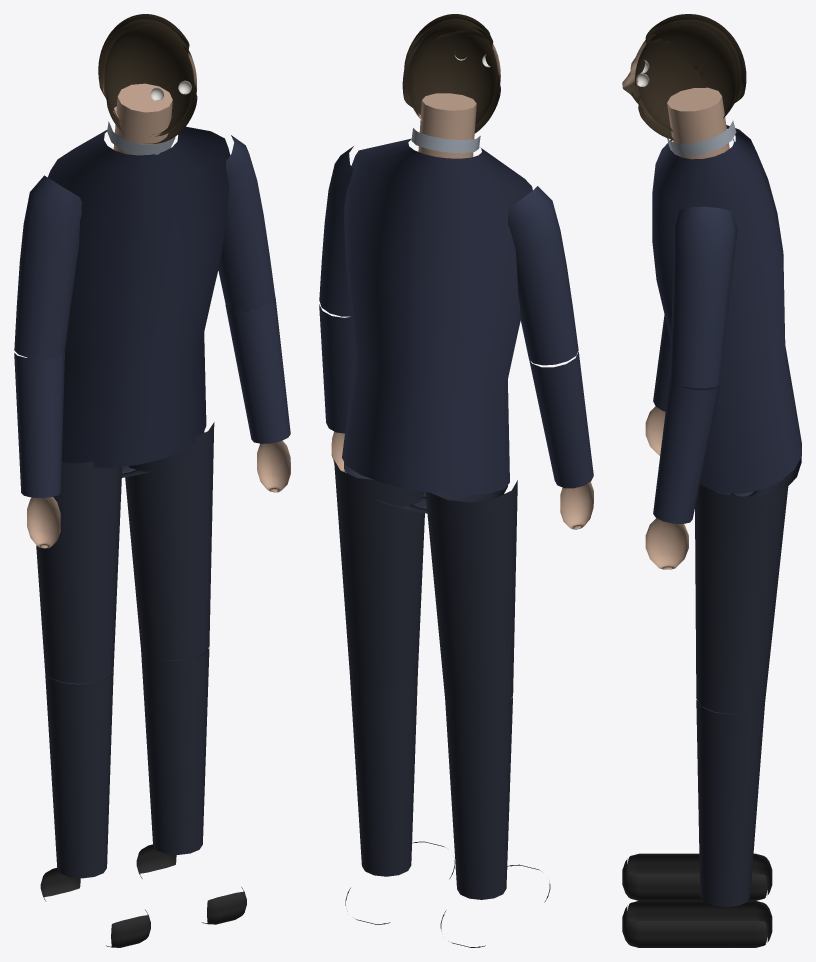
Rendered from fire_control_standing.glb.
3 views of the same model, side by side, from view 1: azimuth 30°, elevation 25°; view 2: azimuth 150°, elevation 25°; view 3: azimuth 270°, elevation 25° (orthographic).
Parts seen in each view (by area): view 1: body, head; view 2: body, head; view 3: body, head.
Boxes of the visible parts, x1,y1,x2,y2 form: body: (14, 83, 290, 947); head: (98, 14, 197, 143); body: (319, 93, 593, 947); head: (402, 14, 500, 133); body: (622, 87, 801, 947); head: (622, 14, 746, 140).
Bounding box in the file's own units: 0.5518 × 1.79 × 0.3231.
